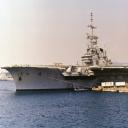Portanaves: (1, 11, 128, 95)
